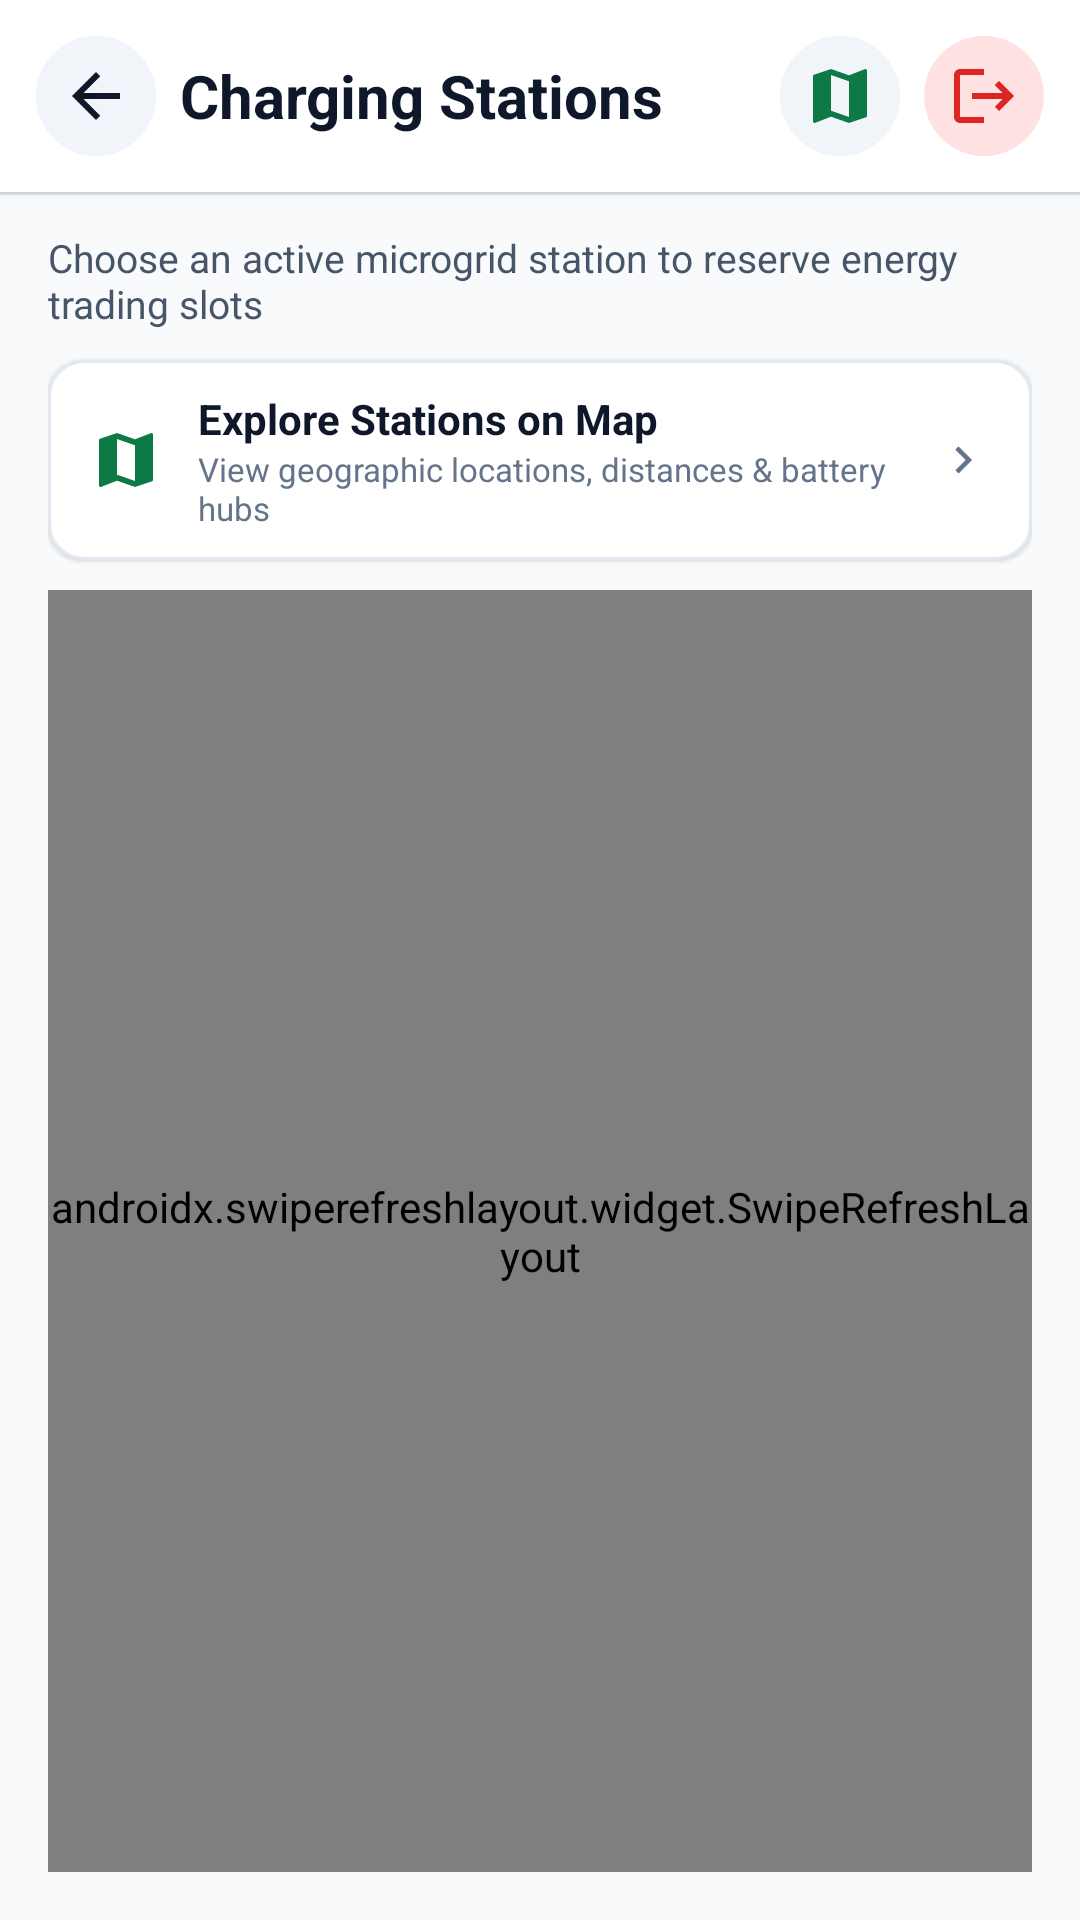

Point at icon controls on the screen. Image size 1080*1920, points as point (x, y).
Back: point (96, 96)
chevron right: point (963, 460)
View Stations on Map: point (840, 96)
